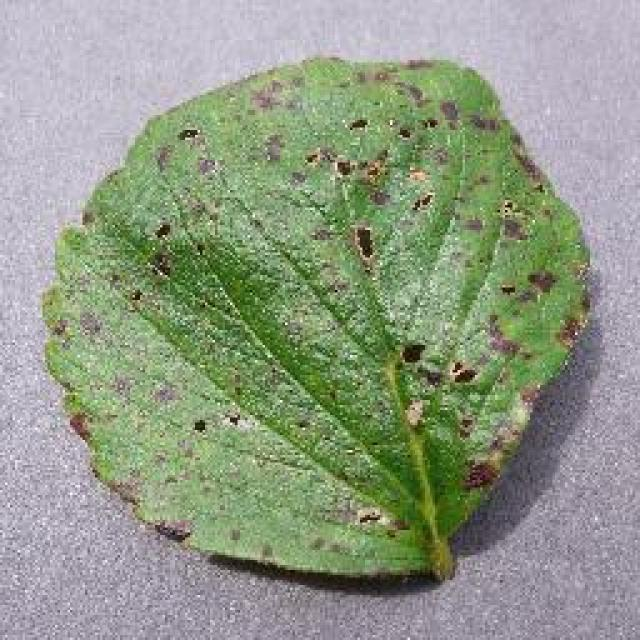Strawberry leaf scorch: (107, 94, 515, 498)
